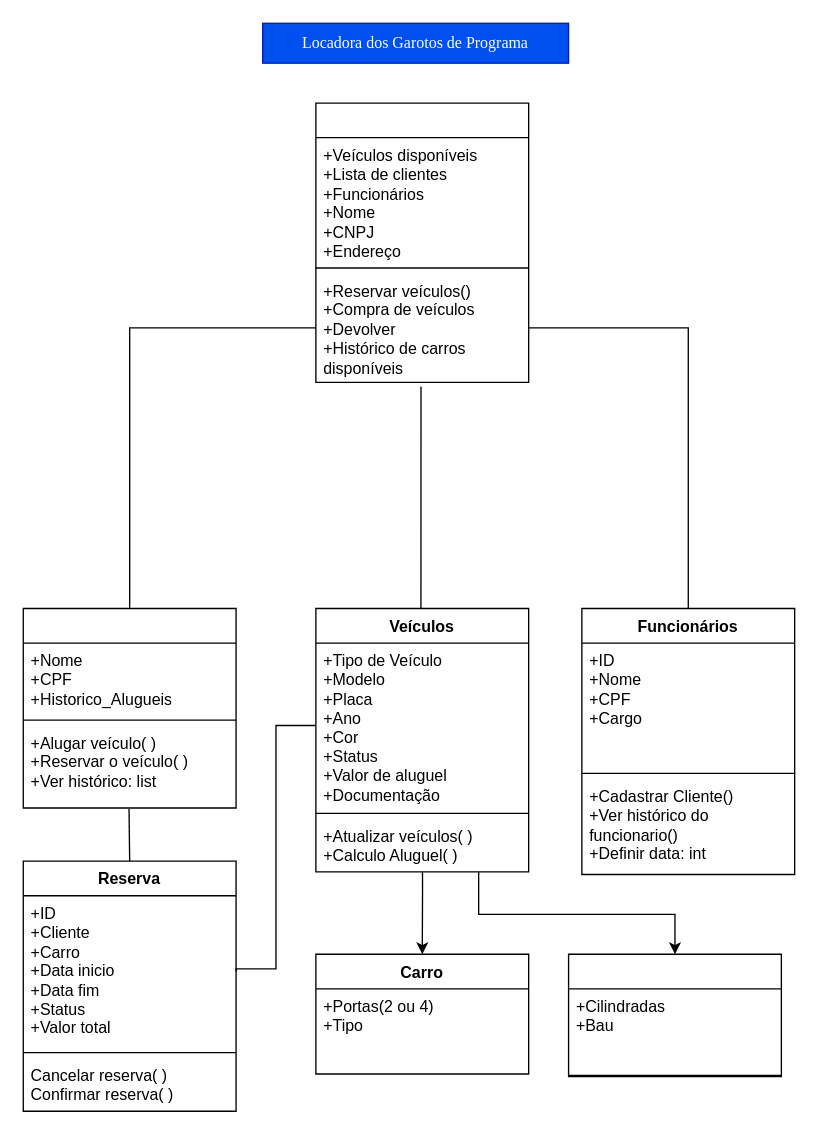
The diagram is 818 pixels wide and 1138 high, and some of its shapes have lost their labels. The shapes that lost their labels are listed below. From the top down, each one's box as (x1, y1, x2, y2) in pixels, then its label:
(315, 102, 529, 382): Locadora de Veículos
(22, 607, 236, 808): Cliente
(567, 953, 781, 1077): Moto
